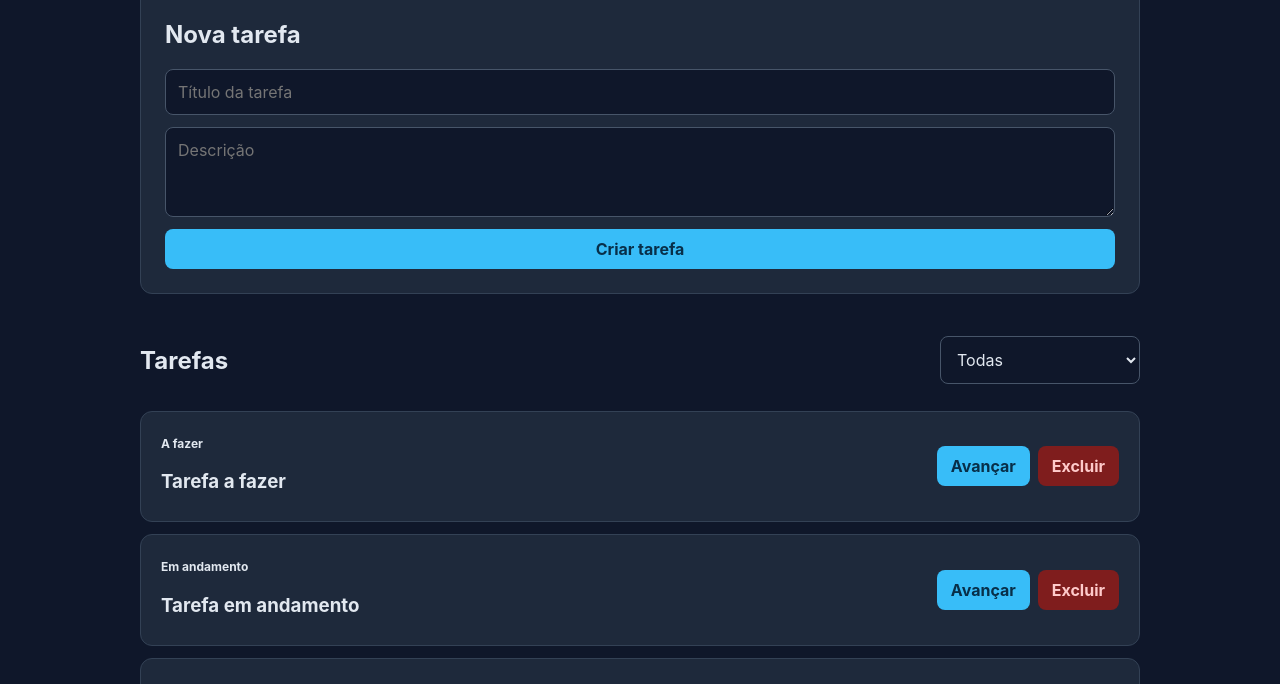
it: TaskFlow › deve filtrar tarefas por status
(page scrolled)
Expected: the heading "Tarefa a fazer" is shown, [161, 470, 286, 493]
Expected: the heading "Tarefa em andamento" is shown, [161, 594, 359, 617]
Select "Concluídas" in the dropdown at (1040, 360), box [940, 336, 1140, 384]
(page scrolled)
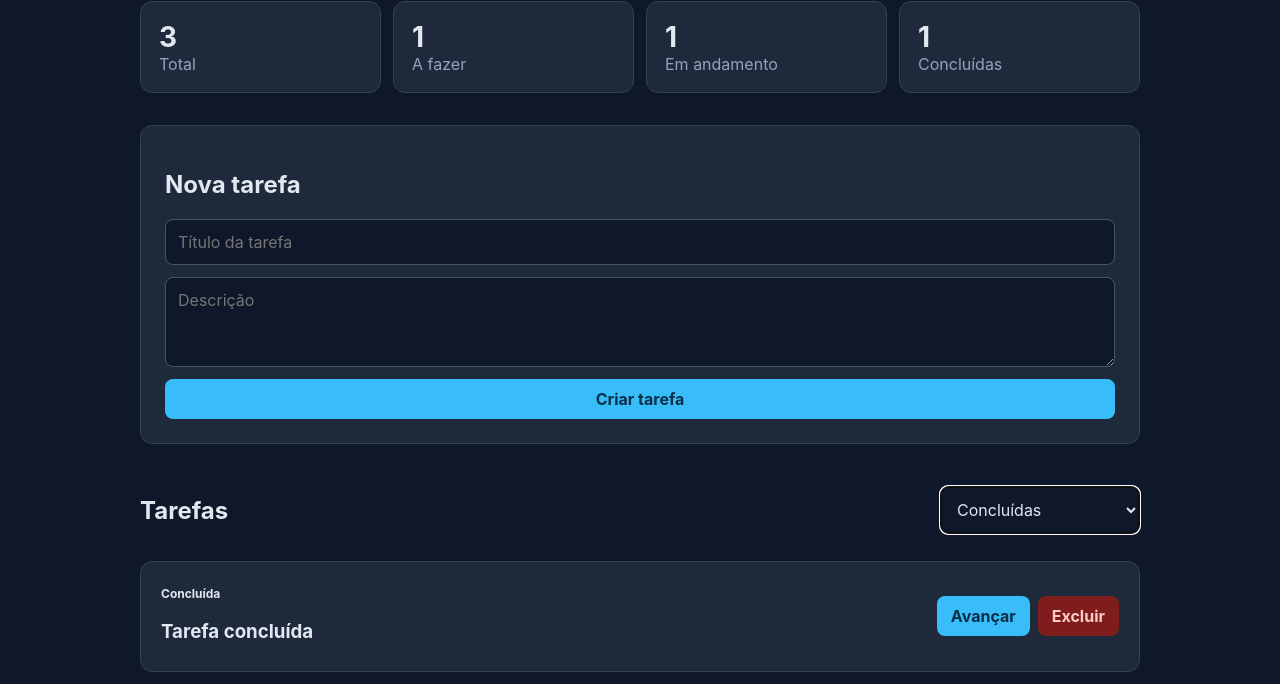
Expected: the heading "Tarefa concluída" is shown, [161, 620, 313, 643]
Expected: the heading "Tarefa a fazer" is gone
Expected: the heading "Tarefa em andamento" is gone
